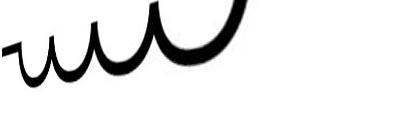inductor: (15, 0, 253, 88)
